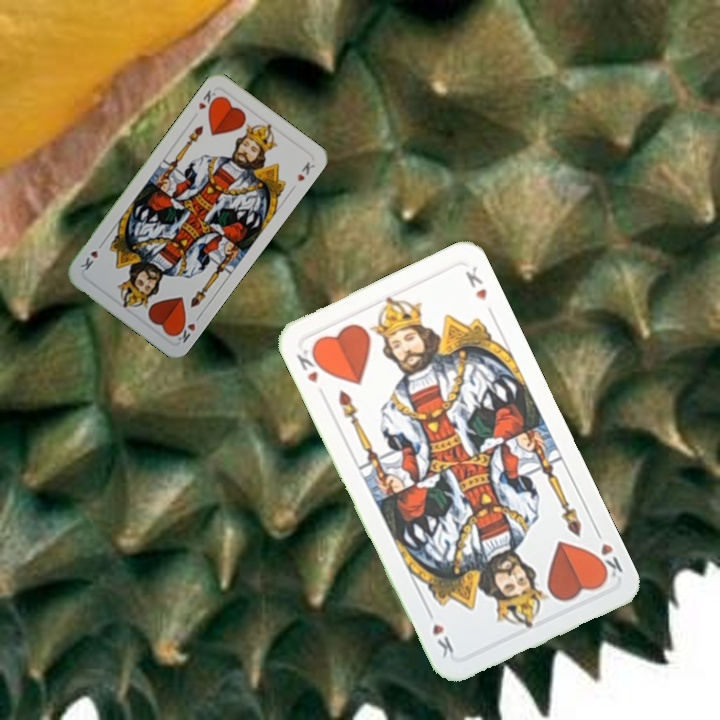HK: (589, 524, 626, 583), (292, 343, 327, 386), (170, 310, 204, 346), (194, 86, 222, 114)
